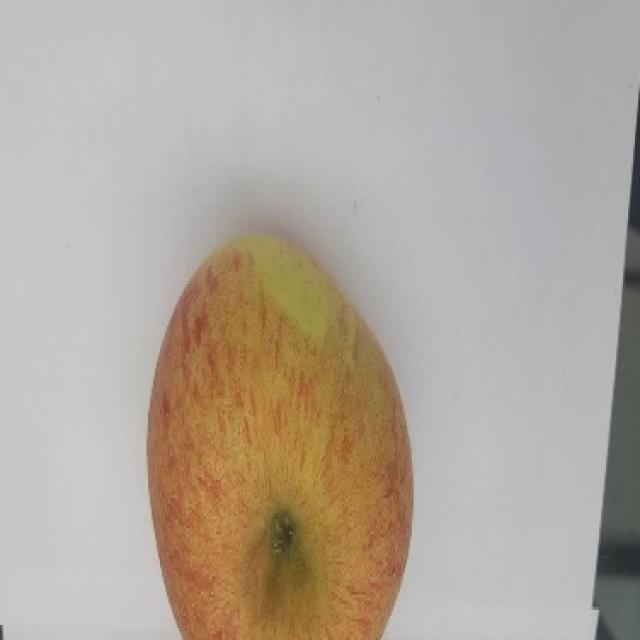Apple: (145, 232, 414, 639)
